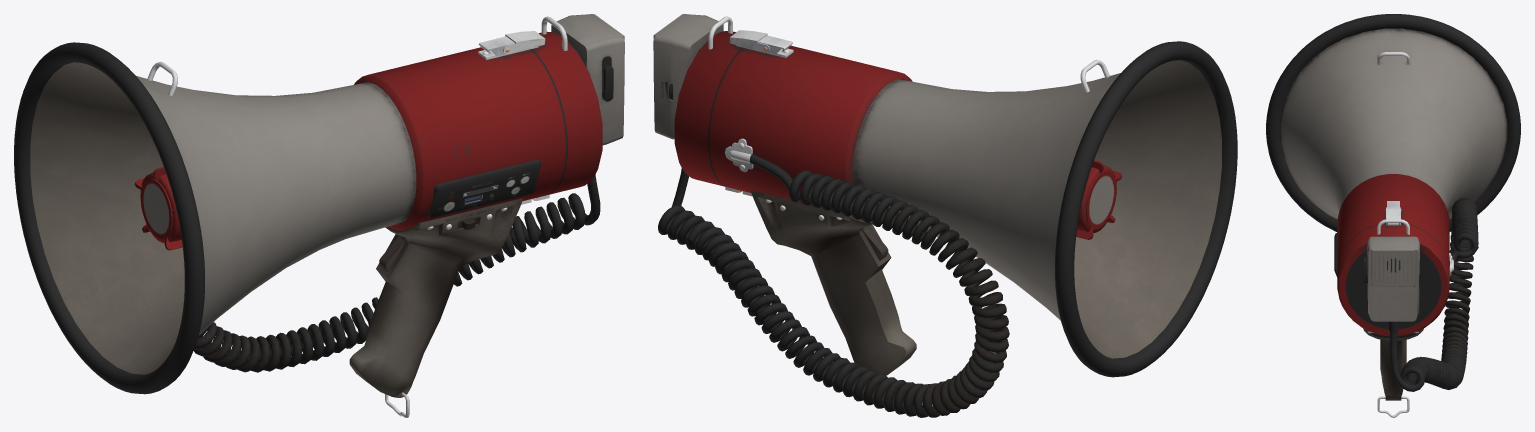
Rendered from megaphone.glb.
3 views of the same model, side by side, from view 1: azimuth 30°, elevation 25°; view 2: azimuth 150°, elevation 25°; view 3: azimuth 270°, elevation 25° (orthographic). The views are drawn at different scales.
Visible parts, largest first — view 1: Megaphone_01; view 2: Megaphone_01; view 3: Megaphone_01.
Boxes of the visible parts, box(x1,y1,x2,y2) form: Megaphone_01: box(14, 14, 624, 417); Megaphone_01: box(653, 14, 1237, 417); Megaphone_01: box(1266, 14, 1520, 417).
Size of the model in its own units: 0.3707 by 0.3001 by 0.2284.
Materials: 1 (1 with a texture image).
